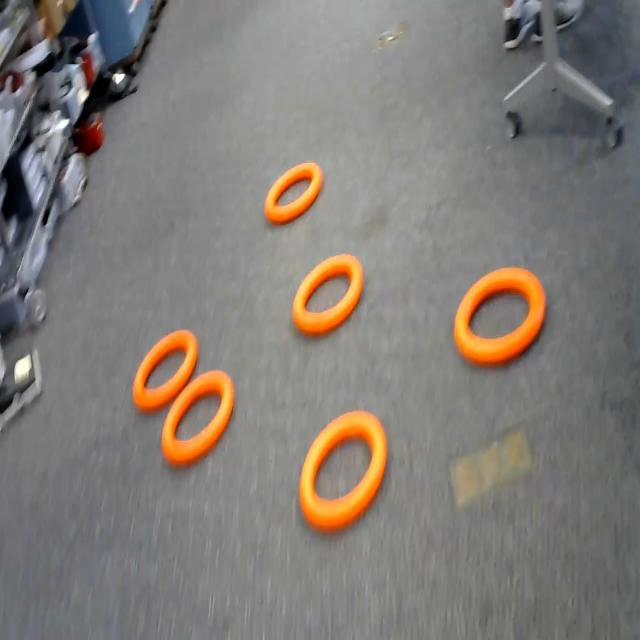note: (296, 404, 394, 542), (454, 261, 548, 383), (160, 360, 238, 473), (130, 317, 202, 418), (293, 249, 365, 342), (264, 158, 324, 232)
